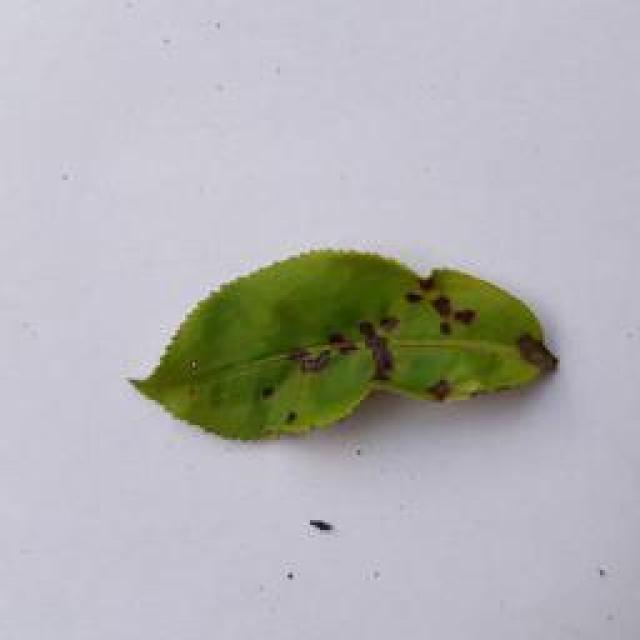Helopeltis: (124, 243, 588, 454)
